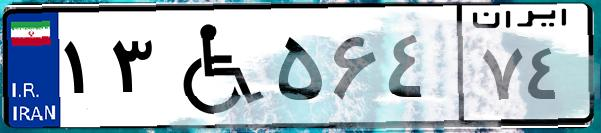1: (57, 26, 110, 100)
3: (110, 28, 158, 98)
4: (385, 28, 445, 110), (525, 38, 570, 115)
5: (270, 28, 330, 110)
6: (330, 28, 385, 110)
7: (475, 38, 525, 113)
ژ (معلولین و جانبازان): (158, 12, 270, 120)
